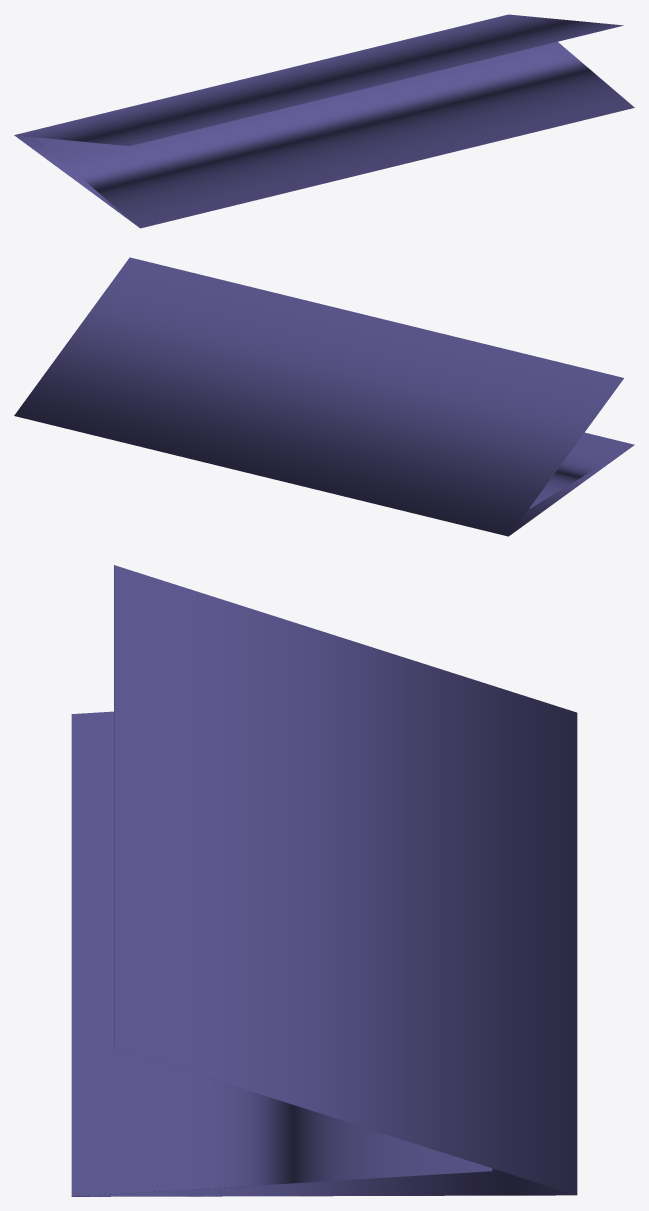
File: Paper4_UV.fbx
The picture shows the model from 3 angles, top to bottom: view 1: azimuth 30°, elevation 25°; view 2: azimuth 150°, elevation 25°; view 3: azimuth 270°, elevation 25°; orthographic projection. The views are drawn at different scales.
Visible parts, largest first — view 1: polySurface4; view 2: polySurface4; view 3: polySurface4.
Part boxes in pixels (<box>): polySurface4: <box>14,14,634,228</box>; polySurface4: <box>14,257,634,536</box>; polySurface4: <box>71,565,577,1196</box>.
Bounding box in the file's own units: 0.85 × 0.1225 × 0.3763.
